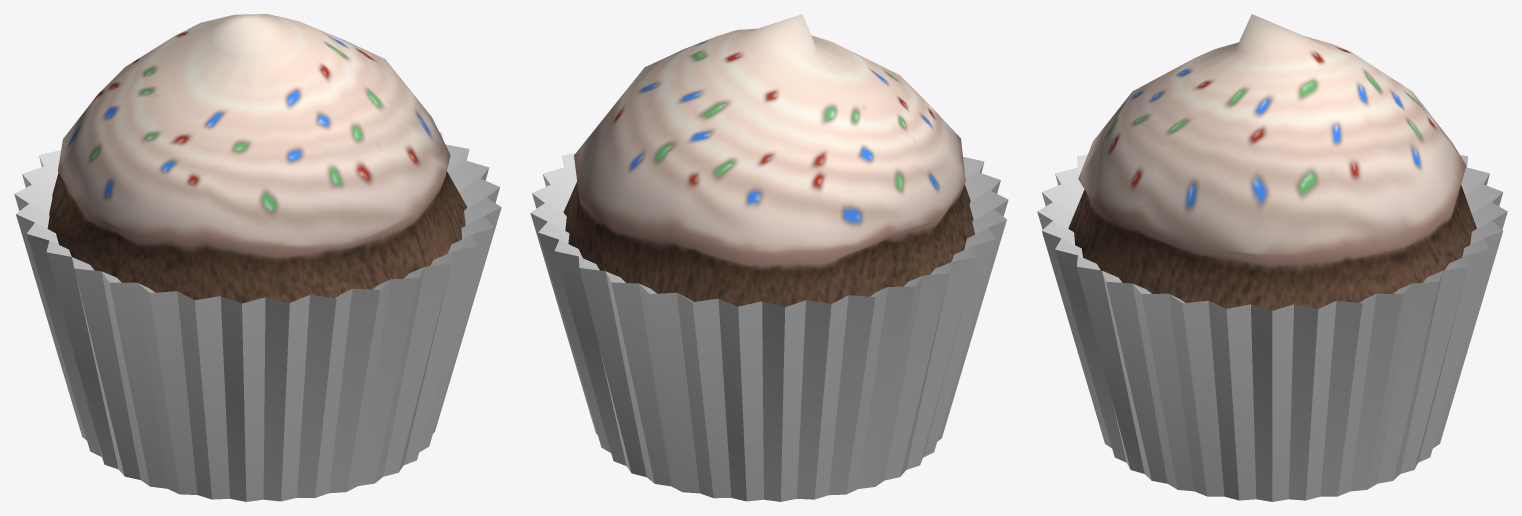
File: SM_Pickup_Cupcake.FBX
3 views of the same model, side by side, from view 1: azimuth 30°, elevation 25°; view 2: azimuth 150°, elevation 25°; view 3: azimuth 270°, elevation 25° (orthographic). The views are drawn at different scales.
Visible parts, largest first — view 1: SM_Pickup_Cupcake; view 2: SM_Pickup_Cupcake; view 3: SM_Pickup_Cupcake.
Boxes of the visible parts, left/top/right/bottom form: SM_Pickup_Cupcake: left=14, top=14, right=501, bottom=501; SM_Pickup_Cupcake: left=530, top=14, right=1008, bottom=501; SM_Pickup_Cupcake: left=1037, top=14, right=1507, bottom=501.
Size of the model in its own units: 48.84 by 48.84 by 46.37.
